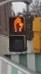stop: (8, 16, 27, 35)
